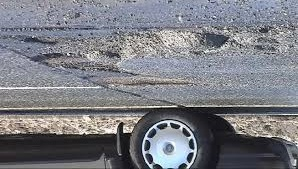pothole: (9, 24, 296, 73), (92, 72, 196, 92)
